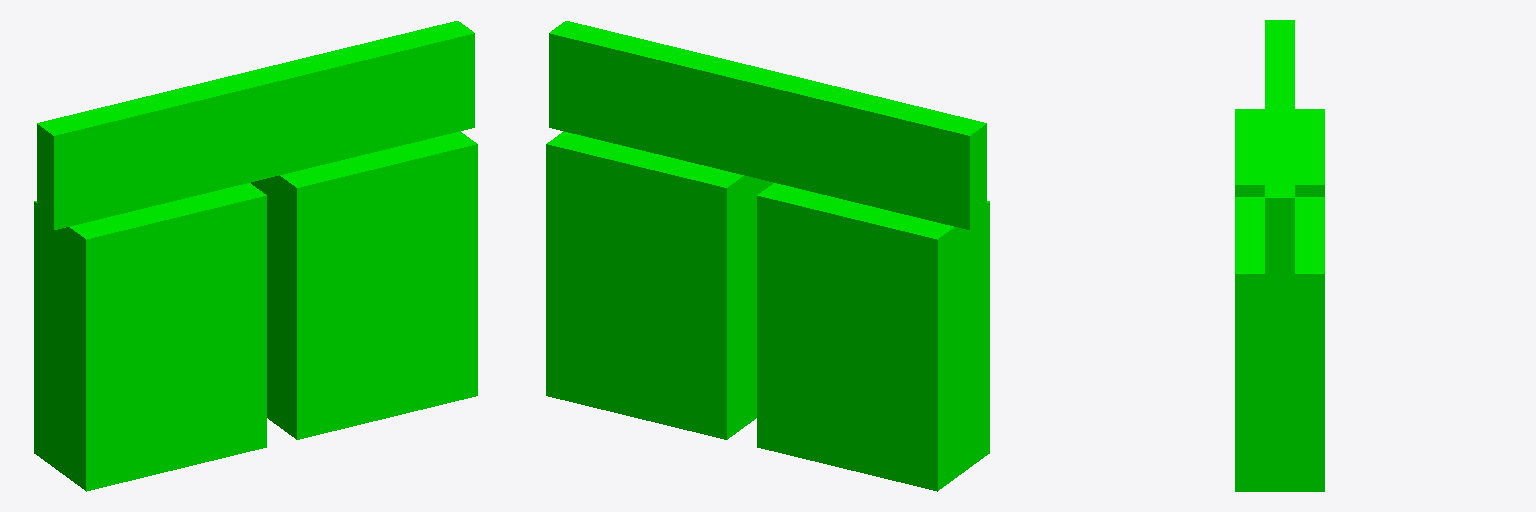
The robot description file, URDF, robot "robot":
<robot name = "robot">
    <link name="root">
        <inertial>
            <origin xyz="0.0 0.0 1.5" rpy="0 0 0"/>
            <mass value="1" />
            <inertia ixx="100" ixy="0" ixz="0" iyy="100" iyz="0" izz="100" />
        </inertial>
        <visual>
            <origin xyz="0.0 0.0 1.5" rpy="0 0 0"/>
            <geometry>
                <box size="0 0 0.0001" />
            </geometry>
            <material name="Green">
                <color rgba="0 1.0 0.0 1.0"/>
            </material>
        </visual>
        <collision>
            <origin xyz="0.0 0.0 1.5" rpy="0 0 0"/>
            <geometry>
                <box size="0 0 0.0001" />
            </geometry>
        </collision>
    </link>
    <joint name="root_000" type="revolute">
       <parent link="root"/>
       <child  link="000"/>
       <origin rpy="0 0 0" xyz="0.0 0.0 1.5" />
     <axis xyz="1 0 0"/>
       <limit effort="0.0" lower="-3.14159" upper="3.14159" velocity="0.0"/>
    </joint>
    <link name="000">
        <inertial>
            <origin xyz="0.35 0.0 0.0" rpy="0 0 0"/>
            <mass value="1" />
            <inertia ixx="100" ixy="0" ixz="0" iyy="100" iyz="0" izz="100" />
        </inertial>
        <visual>
            <origin xyz="0.35 0.0 0.0" rpy="0 0 0"/>
            <geometry>
                <box size="0.7 0.1 0.3" />
            </geometry>
            <material name="Green">
                <color rgba="0 1.0 0.0 1.0"/>
            </material>
        </visual>
        <collision>
            <origin xyz="0.35 0.0 0.0" rpy="0 0 0"/>
            <geometry>
                <box size="0.7 0.1 0.3" />
            </geometry>
        </collision>
    </link>
    <joint name="000_010" type="revolute">
       <parent link="000"/>
       <child  link="010"/>
       <origin rpy="0 0 0" xyz="0.7 0.0 -0.0" />
     <axis xyz="1 0 0"/>
       <limit effort="0.0" lower="-3.14159" upper="3.14159" velocity="0.0"/>
    </joint>
    <link name="010">
        <inertial>
            <origin xyz="0.35 0.0 -0.0" rpy="0 0 0"/>
            <mass value="1" />
            <inertia ixx="100" ixy="0" ixz="0" iyy="100" iyz="0" izz="100" />
        </inertial>
        <visual>
            <origin xyz="0.35 0.0 -0.0" rpy="0 0 0"/>
            <geometry>
                <box size="0.7 0.1 0.3" />
            </geometry>
            <material name="Green">
                <color rgba="0 1.0 0.0 1.0"/>
            </material>
        </visual>
        <collision>
            <origin xyz="0.35 0.0 -0.0" rpy="0 0 0"/>
            <geometry>
                <box size="0.7 0.1 0.3" />
            </geometry>
        </collision>
    </link>
    <joint name="010_010-100" type="revolute">
       <parent link="010"/>
       <child  link="010-100"/>
       <origin rpy="0 0 0" xyz="0.35 0.0 -0.15" />
     <axis xyz="0 0 1"/>
       <limit effort="0.0" lower="-3.14159" upper="3.14159" velocity="0.0"/>
    </joint>
    <link name="010-100">
        <inertial>
            <origin xyz="0.0 0.0 -0.2" rpy="0 0 0"/>
            <mass value="1" />
            <inertia ixx="100" ixy="0" ixz="0" iyy="100" iyz="0" izz="100" />
        </inertial>
        <visual>
            <origin xyz="0.0 0.0 -0.2" rpy="0 0 0"/>
            <geometry>
                <box size="0.6 0.3 0.4" />
            </geometry>
            <material name="Green">
                <color rgba="0 1.0 0.0 1.0"/>
            </material>
        </visual>
        <collision>
            <origin xyz="0.0 0.0 -0.2" rpy="0 0 0"/>
            <geometry>
                <box size="0.6 0.3 0.4" />
            </geometry>
        </collision>
    </link>
    <joint name="010-100_010-110" type="revolute">
       <parent link="010-100"/>
       <child  link="010-110"/>
       <origin rpy="0 0 0" xyz="0.0 0.0 -0.4" />
     <axis xyz="0 0 1"/>
       <limit effort="0.0" lower="-3.14159" upper="3.14159" velocity="0.0"/>
    </joint>
    <link name="010-110">
        <inertial>
            <origin xyz="0.0 0.0 -0.2" rpy="0 0 0"/>
            <mass value="1" />
            <inertia ixx="100" ixy="0" ixz="0" iyy="100" iyz="0" izz="100" />
        </inertial>
        <visual>
            <origin xyz="0.0 0.0 -0.2" rpy="0 0 0"/>
            <geometry>
                <box size="0.6 0.3 0.4" />
            </geometry>
            <material name="Green">
                <color rgba="0 1.0 0.0 1.0"/>
            </material>
        </visual>
        <collision>
            <origin xyz="0.0 0.0 -0.2" rpy="0 0 0"/>
            <geometry>
                <box size="0.6 0.3 0.4" />
            </geometry>
        </collision>
    </link>
    <joint name="000_000-100" type="revolute">
       <parent link="000"/>
       <child  link="000-100"/>
       <origin rpy="0 0 0" xyz="0.35 0.0 -0.15" />
     <axis xyz="0 0 1"/>
       <limit effort="0.0" lower="-3.14159" upper="3.14159" velocity="0.0"/>
    </joint>
    <link name="000-100">
        <inertial>
            <origin xyz="0.0 0.0 -0.2" rpy="0 0 0"/>
            <mass value="1" />
            <inertia ixx="100" ixy="0" ixz="0" iyy="100" iyz="0" izz="100" />
        </inertial>
        <visual>
            <origin xyz="0.0 0.0 -0.2" rpy="0 0 0"/>
            <geometry>
                <box size="0.6 0.3 0.4" />
            </geometry>
            <material name="Green">
                <color rgba="0 1.0 0.0 1.0"/>
            </material>
        </visual>
        <collision>
            <origin xyz="0.0 0.0 -0.2" rpy="0 0 0"/>
            <geometry>
                <box size="0.6 0.3 0.4" />
            </geometry>
        </collision>
    </link>
    <joint name="000-100_000-110" type="revolute">
       <parent link="000-100"/>
       <child  link="000-110"/>
       <origin rpy="0 0 0" xyz="0.0 0.0 -0.4" />
     <axis xyz="0 0 1"/>
       <limit effort="0.0" lower="-3.14159" upper="3.14159" velocity="0.0"/>
    </joint>
    <link name="000-110">
        <inertial>
            <origin xyz="0.0 0.0 -0.2" rpy="0 0 0"/>
            <mass value="1" />
            <inertia ixx="100" ixy="0" ixz="0" iyy="100" iyz="0" izz="100" />
        </inertial>
        <visual>
            <origin xyz="0.0 0.0 -0.2" rpy="0 0 0"/>
            <geometry>
                <box size="0.6 0.3 0.4" />
            </geometry>
            <material name="Green">
                <color rgba="0 1.0 0.0 1.0"/>
            </material>
        </visual>
        <collision>
            <origin xyz="0.0 0.0 -0.2" rpy="0 0 0"/>
            <geometry>
                <box size="0.6 0.3 0.4" />
            </geometry>
        </collision>
    </link>
</robot>

--- What the picture shows (computed from the rendered views, not written in the file) ---
The picture shows the robot from 3 angles, left to right: view 1: azimuth 30°, elevation 25°; view 2: azimuth 150°, elevation 25°; view 3: azimuth 270°, elevation 25°; orthographic projection.
Model robot with 7 links and 6 joints (6 revolute), rooted at root, posed all joints at 0.
Visible links, largest first — view 1: 000-100, 010-100, 000-110, 010-110, 000, 010; view 2: 000-100, 010-100, 000-110, 010-110, 000, 010; view 3: 010-100, 010-110, 000-100, 010, 000.
Boxes of the visible links, bbox=[...] form: 000-100: bbox=[34, 183, 266, 365]; 010-100: bbox=[251, 131, 477, 313]; 000-110: bbox=[34, 322, 266, 491]; 010-110: bbox=[267, 270, 477, 439]; 000: bbox=[37, 72, 264, 229]; 010: bbox=[248, 21, 474, 178]; 000-100: bbox=[757, 183, 989, 365]; 010-100: bbox=[546, 131, 772, 313]; 000-110: bbox=[757, 322, 989, 491]; 010-110: bbox=[546, 270, 756, 439]; 000: bbox=[759, 72, 986, 229]; 010: bbox=[549, 21, 775, 178]; 010-100: bbox=[1235, 197, 1324, 382]; 010-110: bbox=[1235, 383, 1324, 491]; 000-100: bbox=[1235, 109, 1324, 196]; 010: bbox=[1265, 109, 1294, 279]; 000: bbox=[1265, 20, 1294, 108].
Size in the robot's own frame: 1.4 by 0.3 by 1.1 metres.
Geometry: primitives only (box / cylinder / sphere), no mesh files.